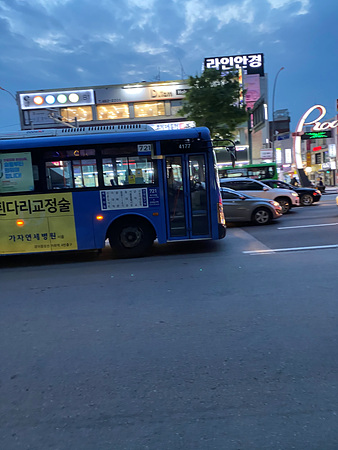entrance: (163, 149, 215, 239)
